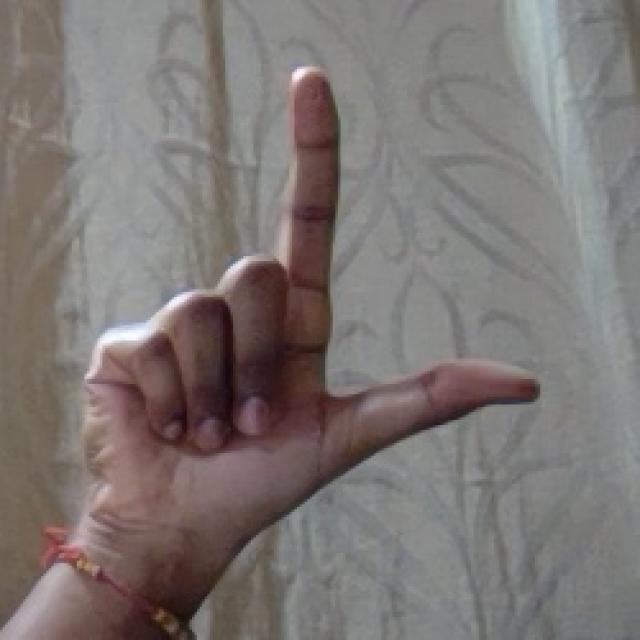Alphabet-L: (74, 69, 540, 621), (0, 566, 169, 639)
